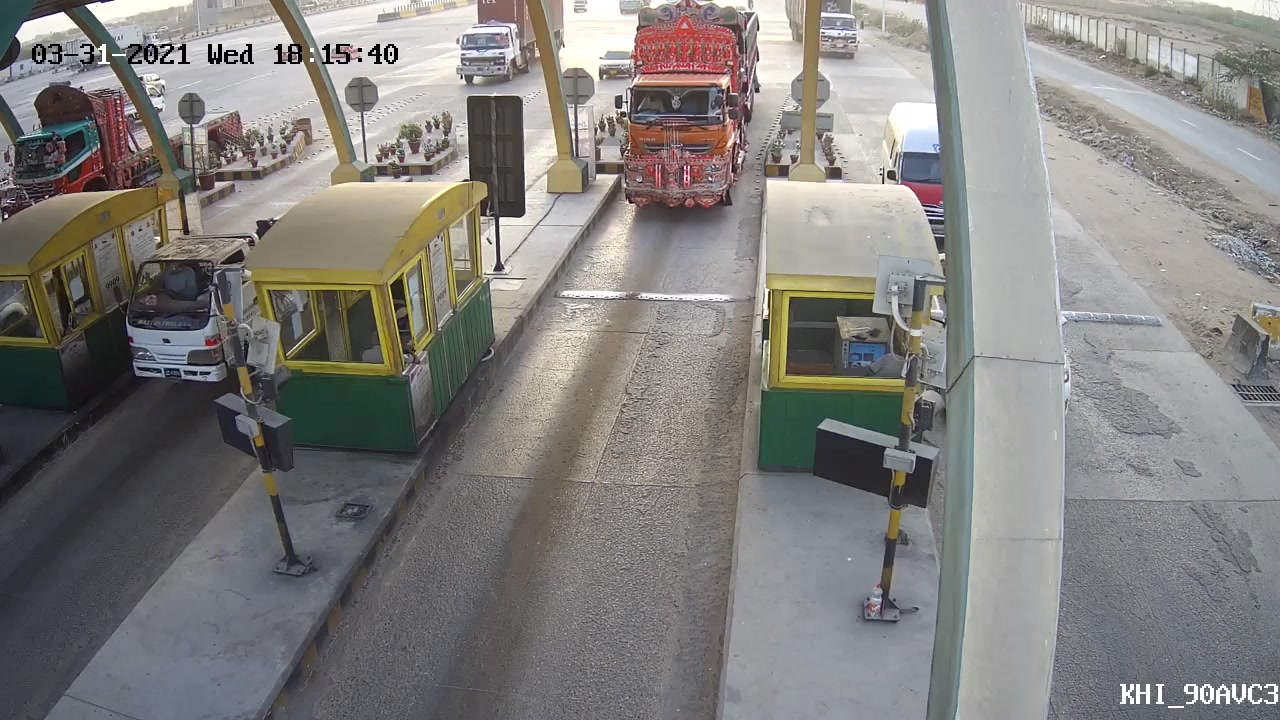F6: (595, 1, 768, 222)
